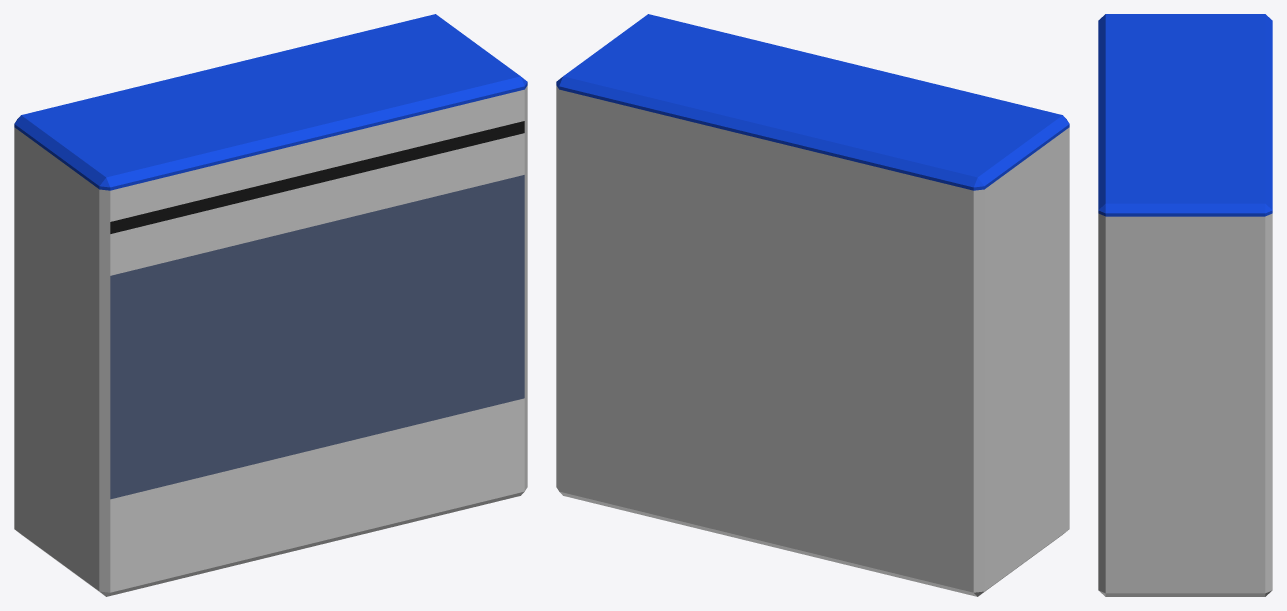
3 views of the same model, side by side, from view 1: azimuth 30°, elevation 25°; view 2: azimuth 150°, elevation 25°; view 3: azimuth 270°, elevation 25° (orthographic). The views are drawn at different scales.
Visible parts, largest first — view 1: Cube.038; view 2: Cube.038; view 3: Cube.038.
Part boxes in pixels (left/top/right/bottom): Cube.038: left=14, top=14, right=527, bottom=596; Cube.038: left=556, top=14, right=1069, bottom=596; Cube.038: left=1098, top=14, right=1272, bottom=596.
Size of the model in its own units: 1.13 by 1.05 by 0.4236.
